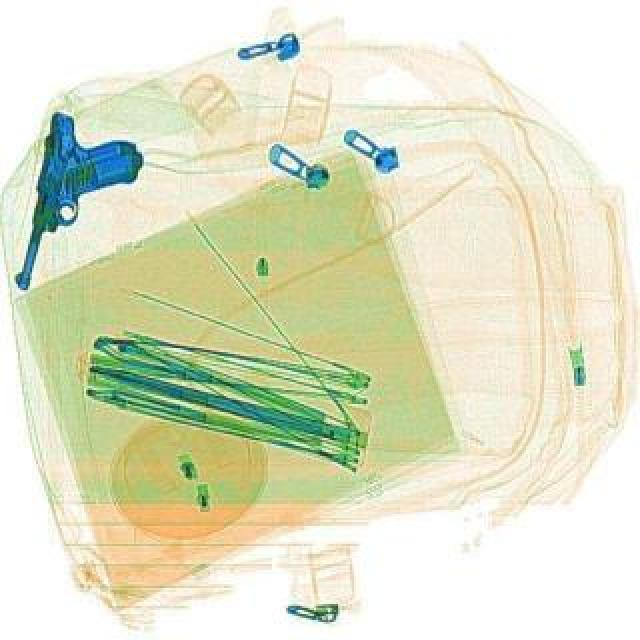gun: (8, 110, 152, 304)
